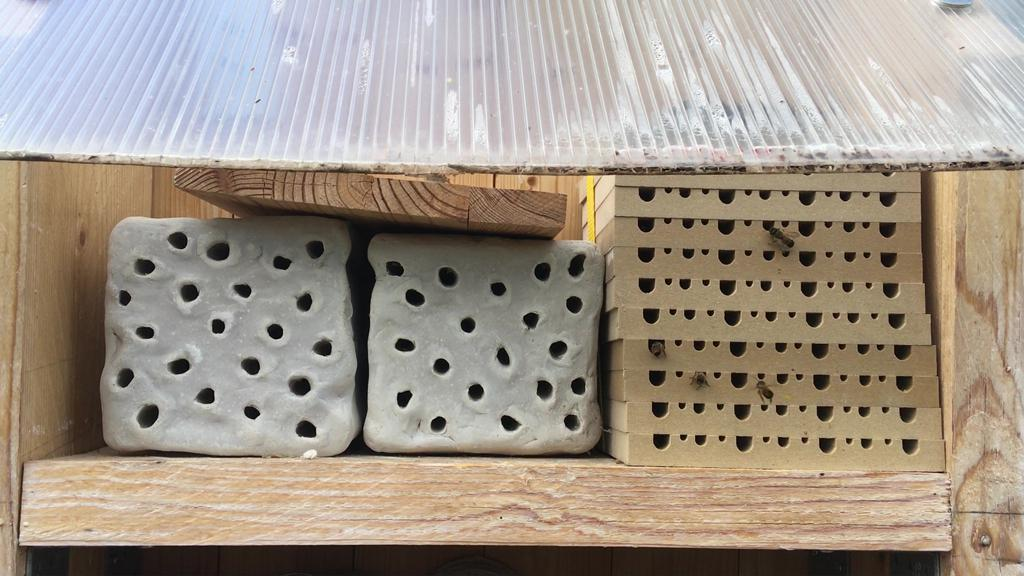bee: (685, 364, 714, 395), (642, 338, 675, 359)
